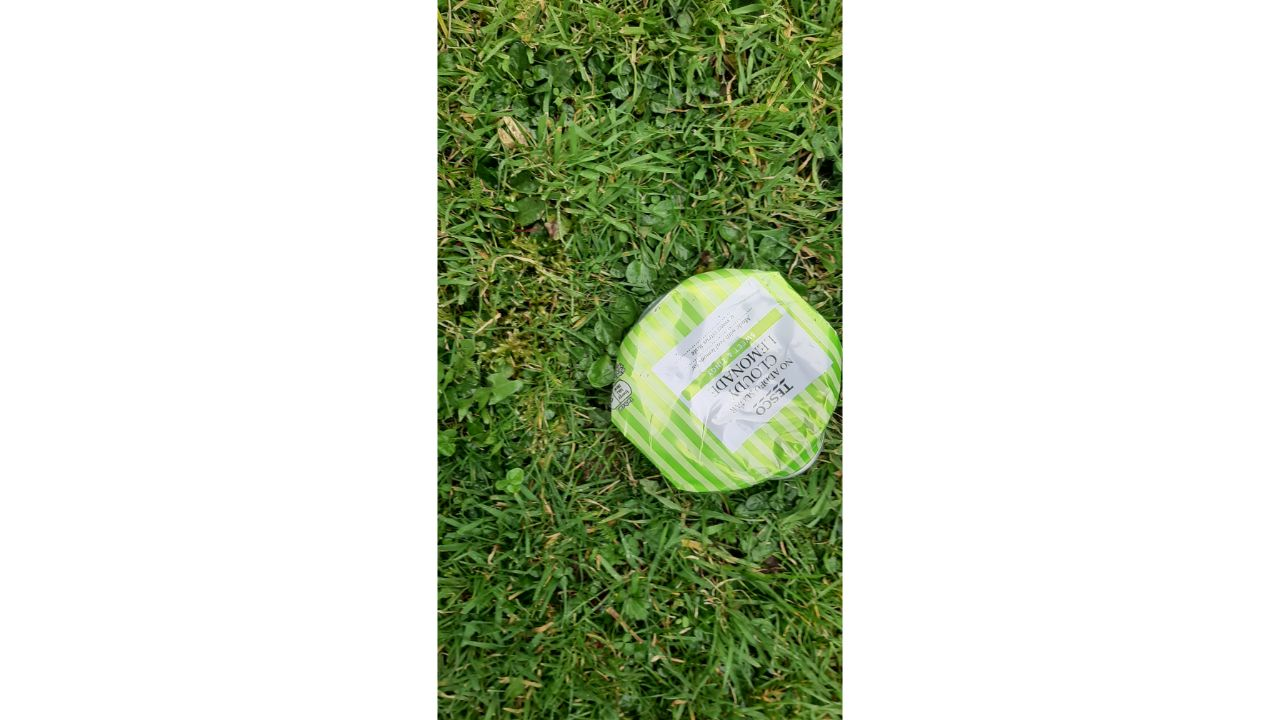Can: (608, 267, 845, 495)
